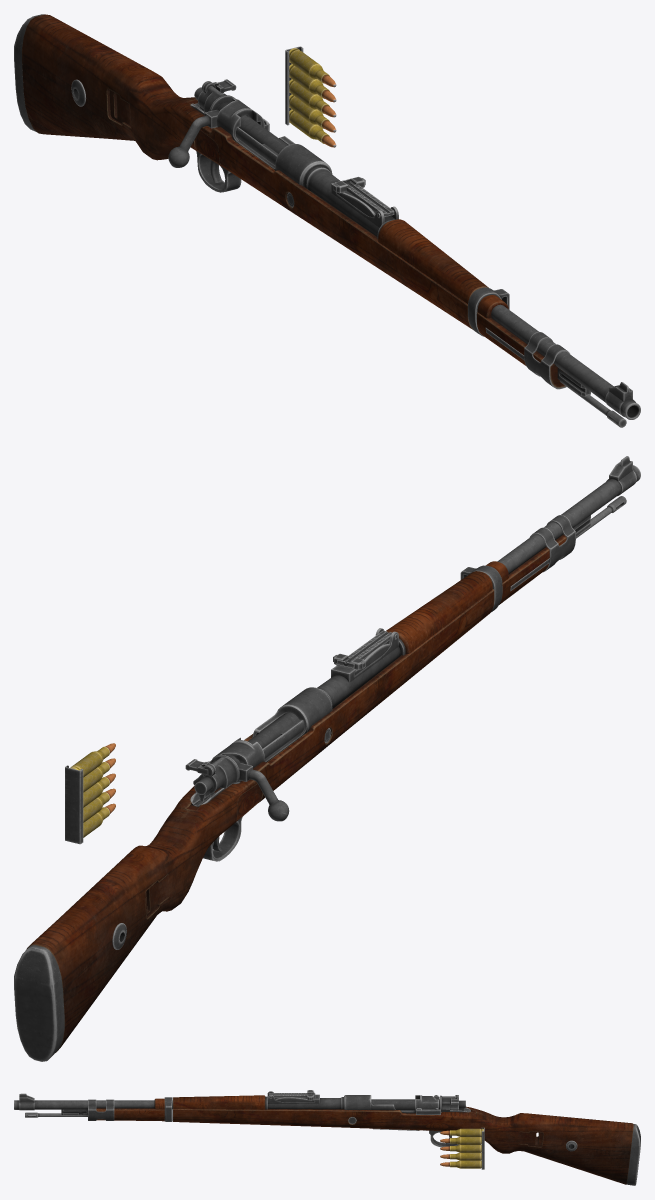
File: Kar98_obj.obj
3 views of the same model, one above another, from view 1: azimuth 30°, elevation 25°; view 2: azimuth 150°, elevation 25°; view 3: azimuth 270°, elevation 25° (orthographic). The views are drawn at different scales.
Visible parts, largest first — view 1: body, bullets, bolt_carrier; view 2: body, bullets, bolt_carrier; view 3: body, bullets, bolt_carrier.
Boxes of the visible parts, x1,y1,x2,y2 form: body: (14,14,640,427); bullets: (285,46,336,147); bolt_carrier: (168,79,287,167); body: (14,456,640,1061); bullets: (65,743,115,844); bolt_carrier: (185,712,298,821); body: (14,1090,640,1185); bullets: (440,1127,484,1169); bolt_carrier: (371,1095,465,1111).
Bounding box in the file's own units: 0.1865 × 0.1764 × 1.1.
Materials: 2 (2 with a texture image).
